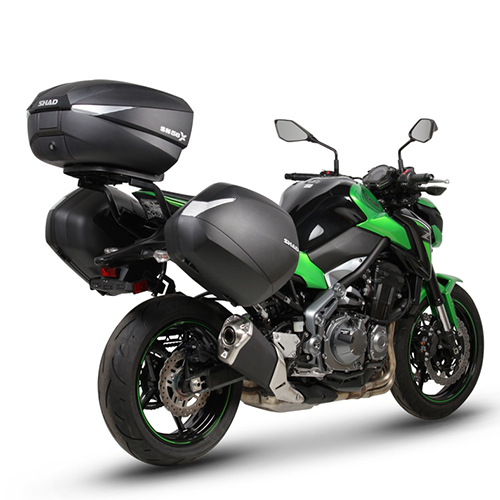motorcycle: (27, 80, 491, 467)
